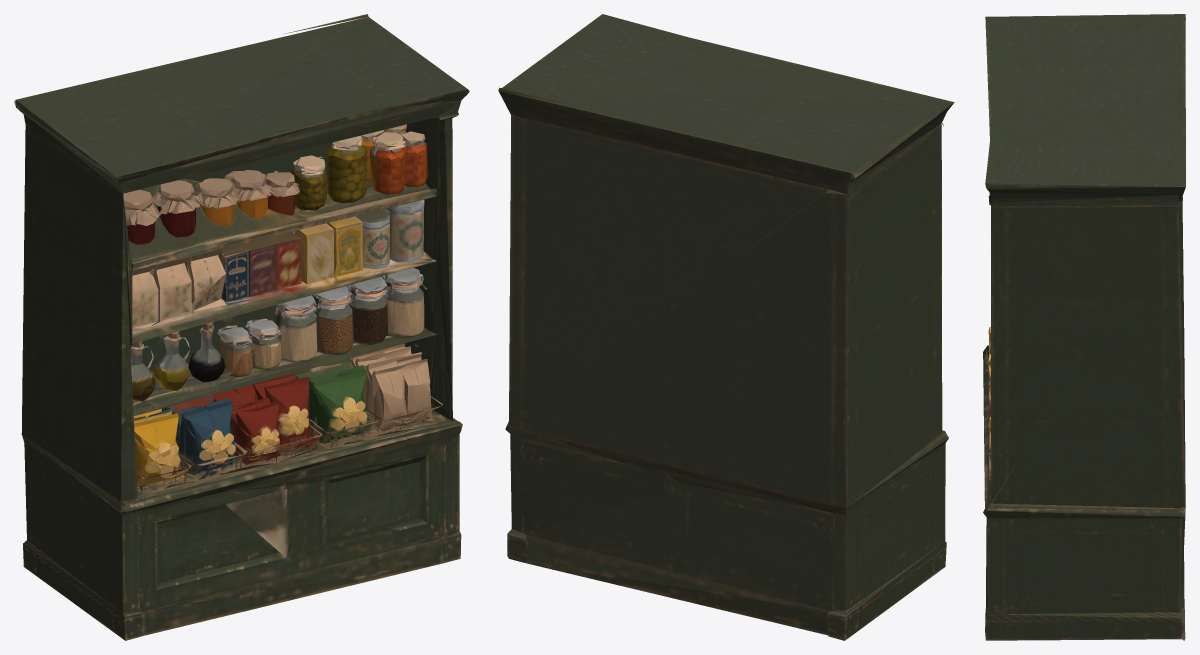
File: stock.glb
3 views of the same model, side by side, from view 1: azimuth 30°, elevation 25°; view 2: azimuth 150°, elevation 25°; view 3: azimuth 270°, elevation 25° (orthographic).
Visible parts, largest first — view 1: Mesh_0; view 2: Mesh_0; view 3: Mesh_0.
Part boxes in pixels (left/top/right/bottom): Mesh_0: left=14, top=14, right=469, bottom=640; Mesh_0: left=498, top=14, right=954, bottom=640; Mesh_0: left=983, top=14, right=1185, bottom=640.
Size of the model in its own units: 1.5 by 1.9 by 0.7548.
Materials: 1 (1 with a texture image).
